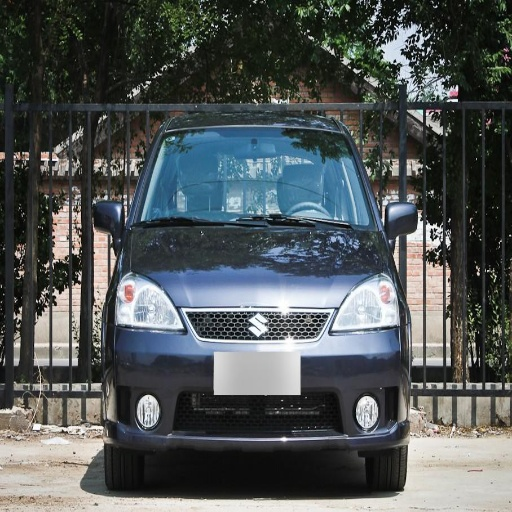front_bumper: (102, 307, 408, 452)
front_right_light: (112, 269, 183, 331)
hood: (127, 226, 385, 307)
left_mirror: (385, 202, 419, 238)
